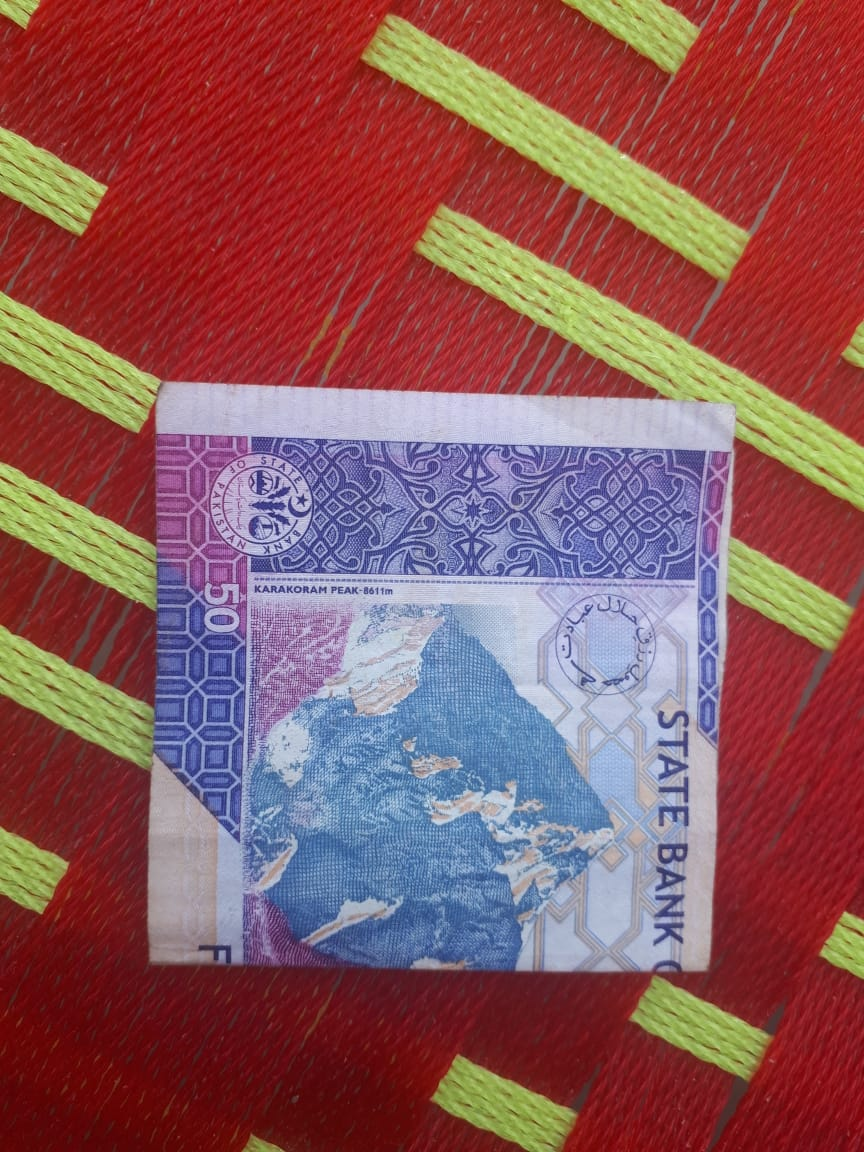50 rupee: (106, 363, 792, 1047)
